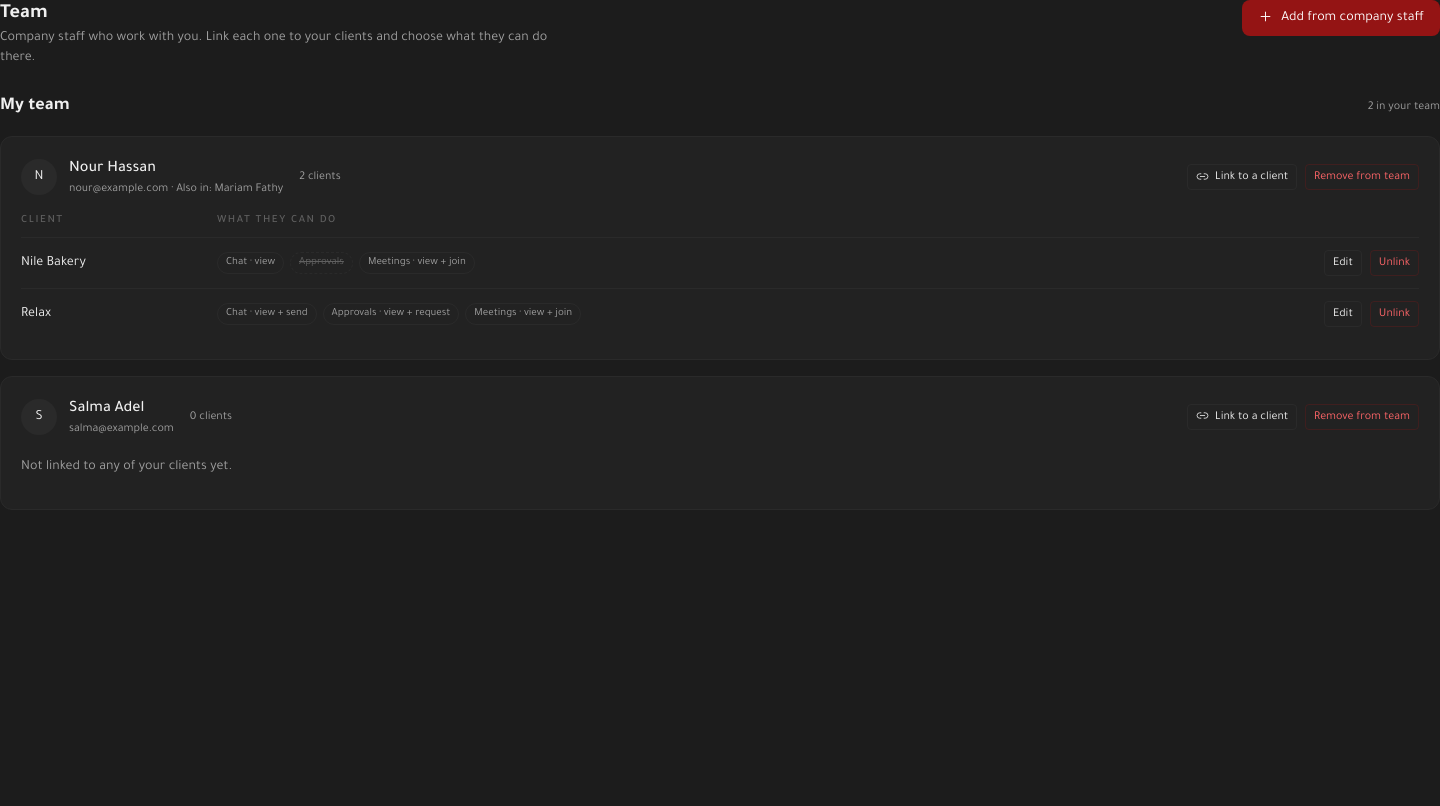
Team page (classic look) › filters the company staff list by name or email
Click the button "Add from company staff" at (1341, 18), box [1242,0,1439,36]
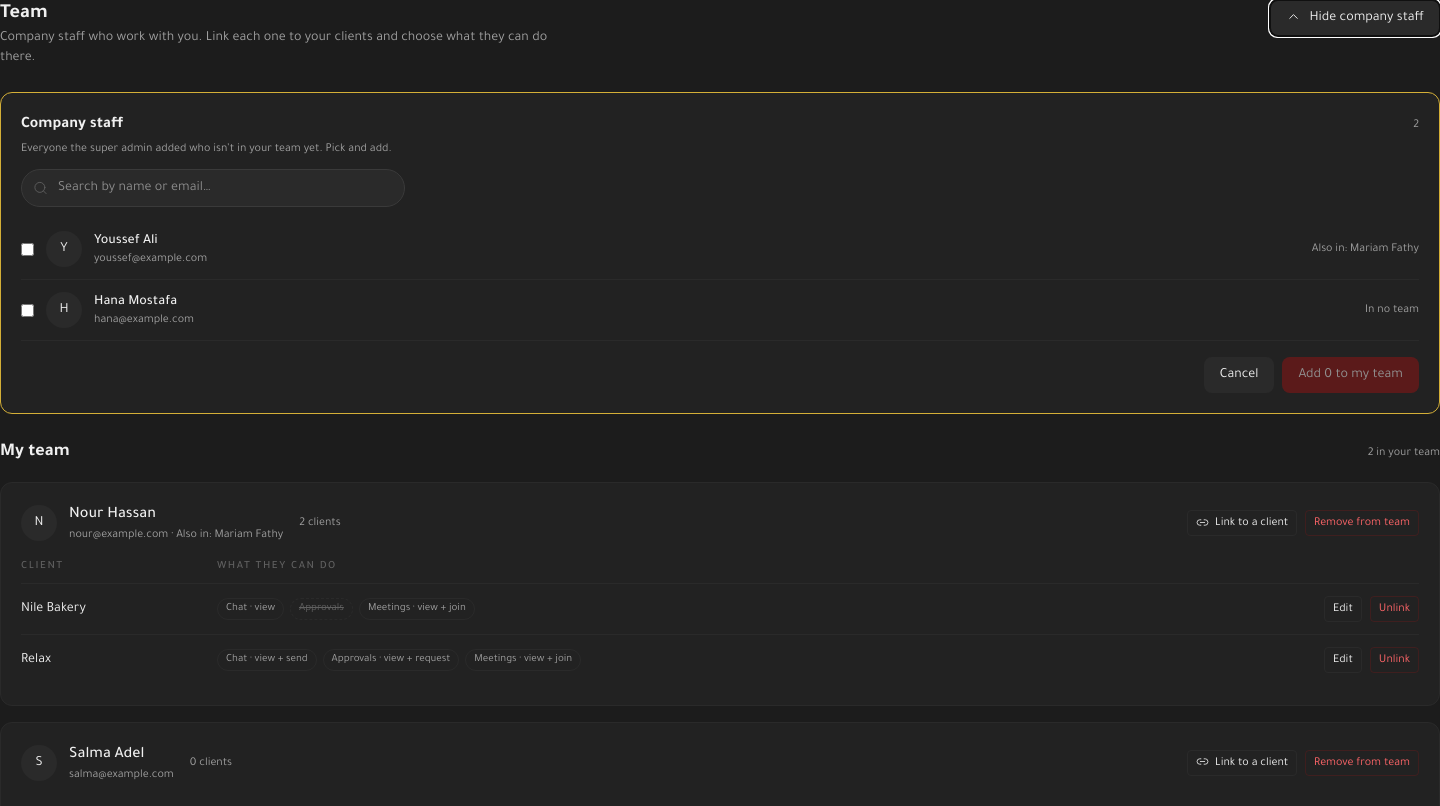
Type "hana@" into the search field labelled "Search by name or email…" at (213, 188), box [21,169,405,207]
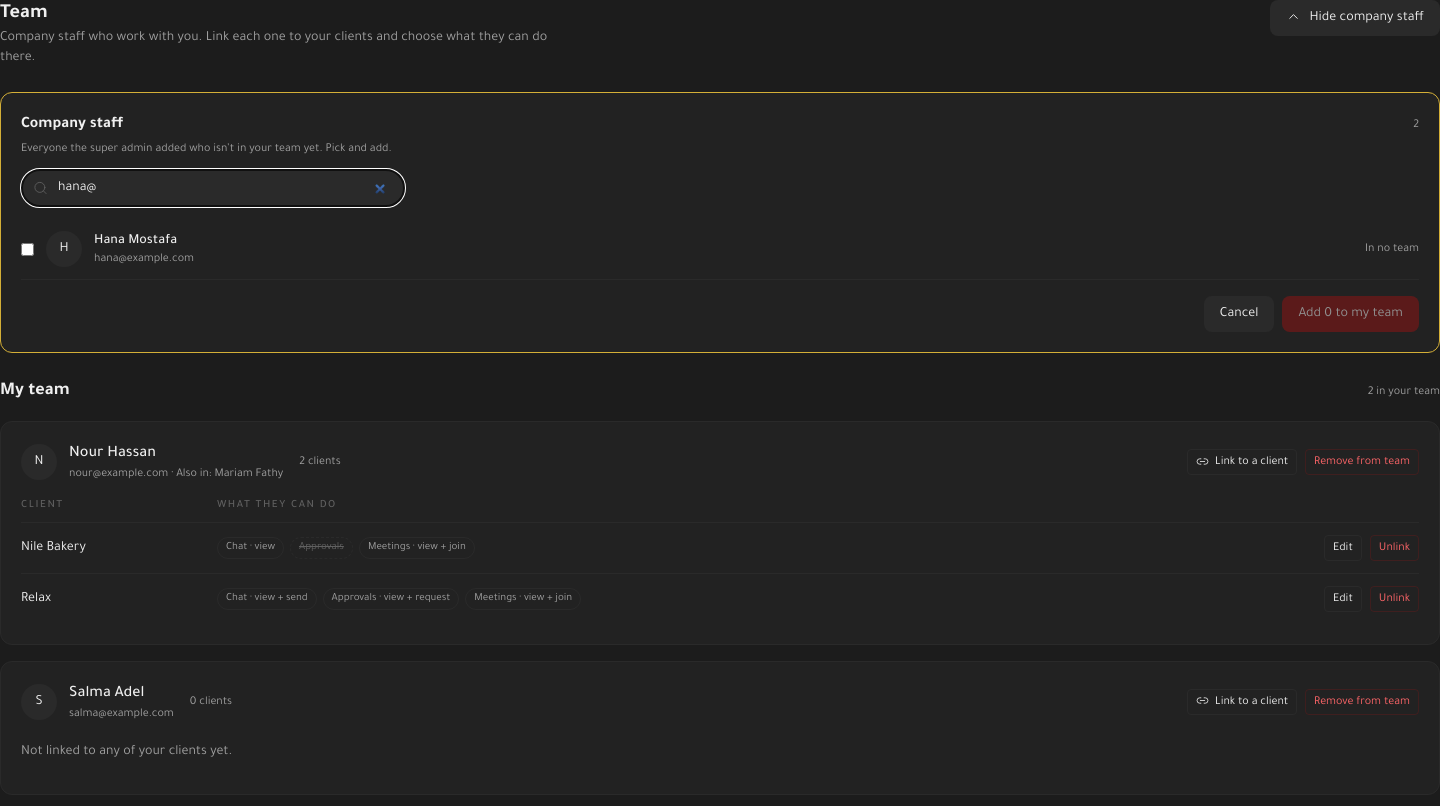
Expected: the text "Hana Mostafa" is shown, [94,234,177,248]
Expected: the text "Youssef Ali" is gone
